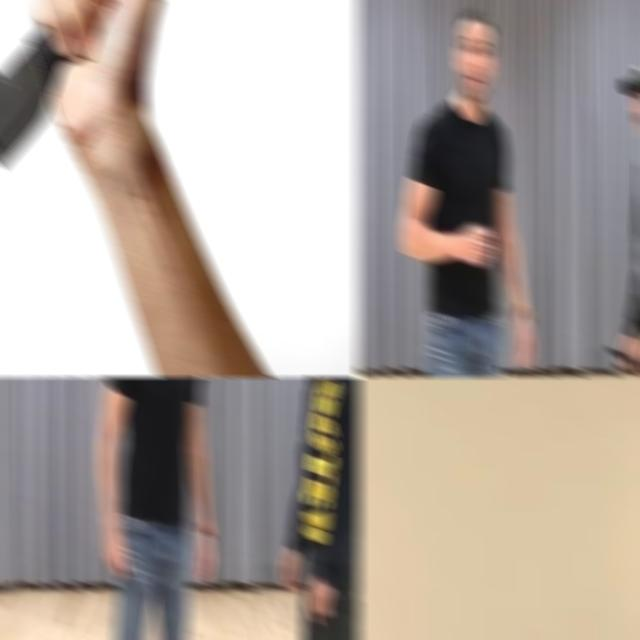Knife: (0, 26, 66, 163)
Knife_Handle: (0, 0, 216, 306), (104, 534, 143, 598), (605, 334, 640, 375)
